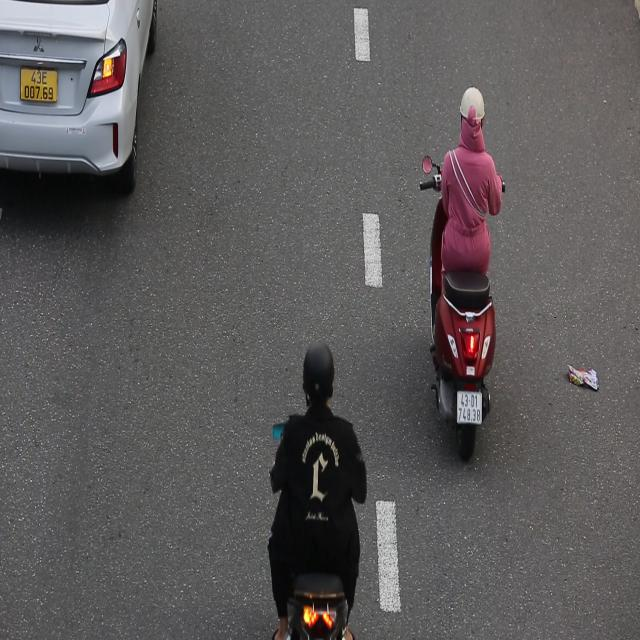motorbike: (416, 76, 510, 476)
